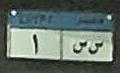1: (31, 32, 40, 56)
seen: (70, 39, 87, 56), (88, 40, 104, 56)
